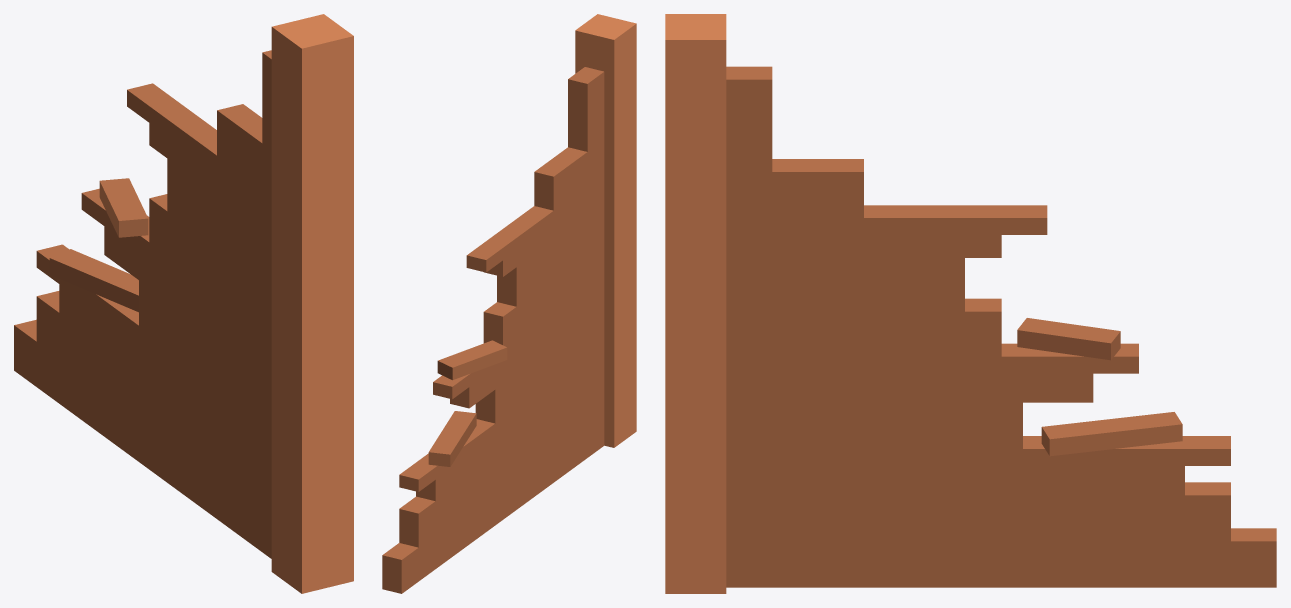
File: wallWoodBroken.dae
The picture shows the model from 3 angles, left to right: view 1: azimuth 30°, elevation 25°; view 2: azimuth 150°, elevation 25°; view 3: azimuth 270°, elevation 25°; orthographic projection. The views are drawn at different scales.
Parts seen in each view (by area): view 1: wallWoodBroken; view 2: wallWoodBroken; view 3: wallWoodBroken.
Boxes of the visible parts, box(x1,y1,x2,y2) form: wallWoodBroken: box(14, 14, 353, 593); wallWoodBroken: box(382, 14, 636, 593); wallWoodBroken: box(665, 14, 1276, 593).
Bounding box in the file's own units: 0.1129 × 1 × 1.
